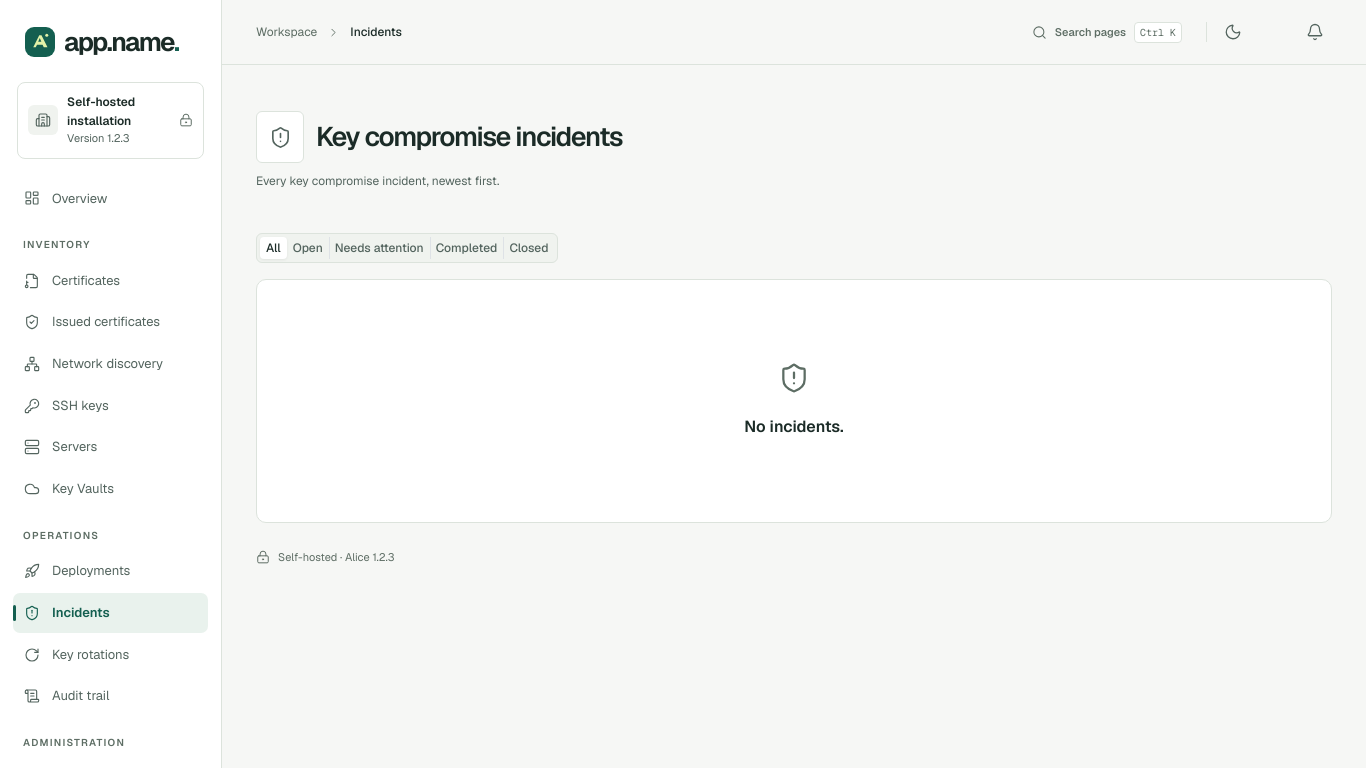
Test case: IncidentsPage (D2, HB-06) › shows the empty states
Expected: the text "No incidents." is shown, [744,416,844,437]
Click the radio button labelled "Completed" at point(466, 248), box [436,240,497,256]
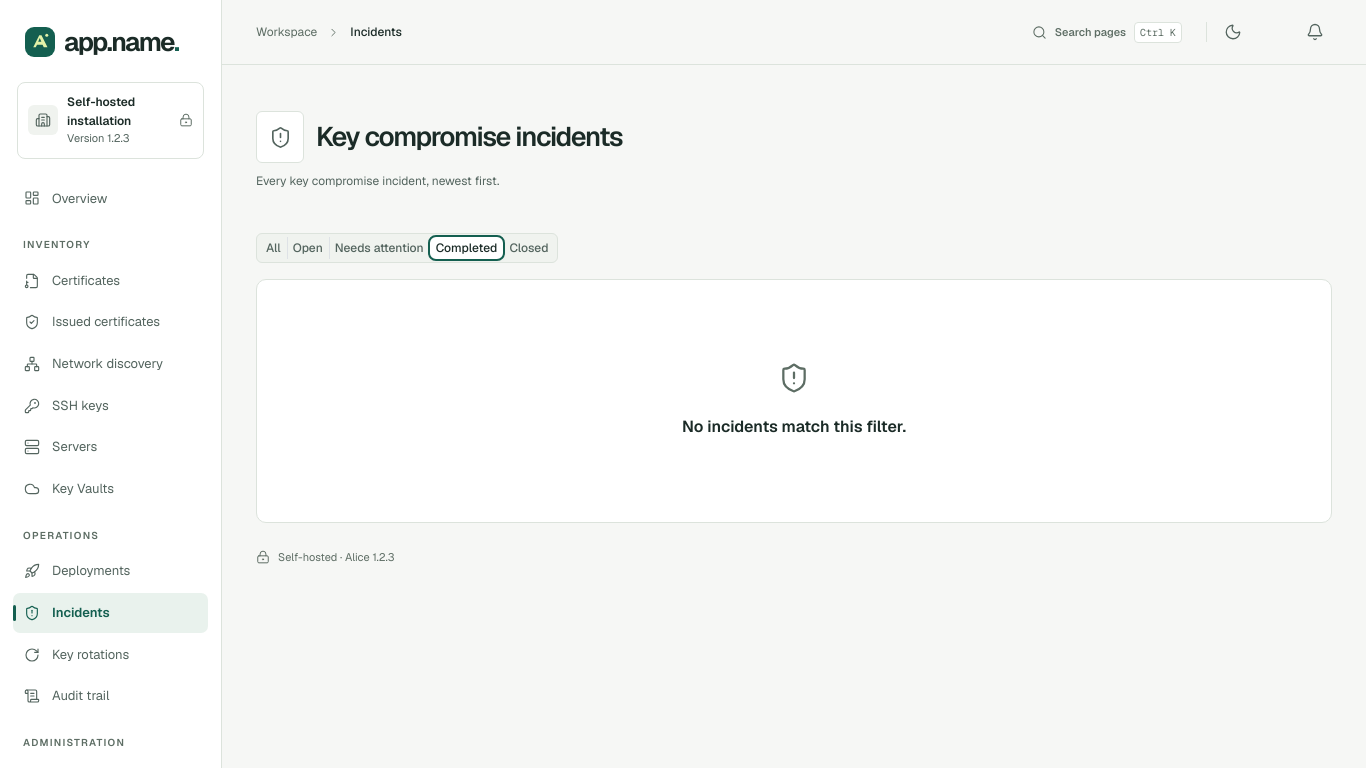
Now the text "No incidents match this filter." is shown, box [682,416,906,437]
